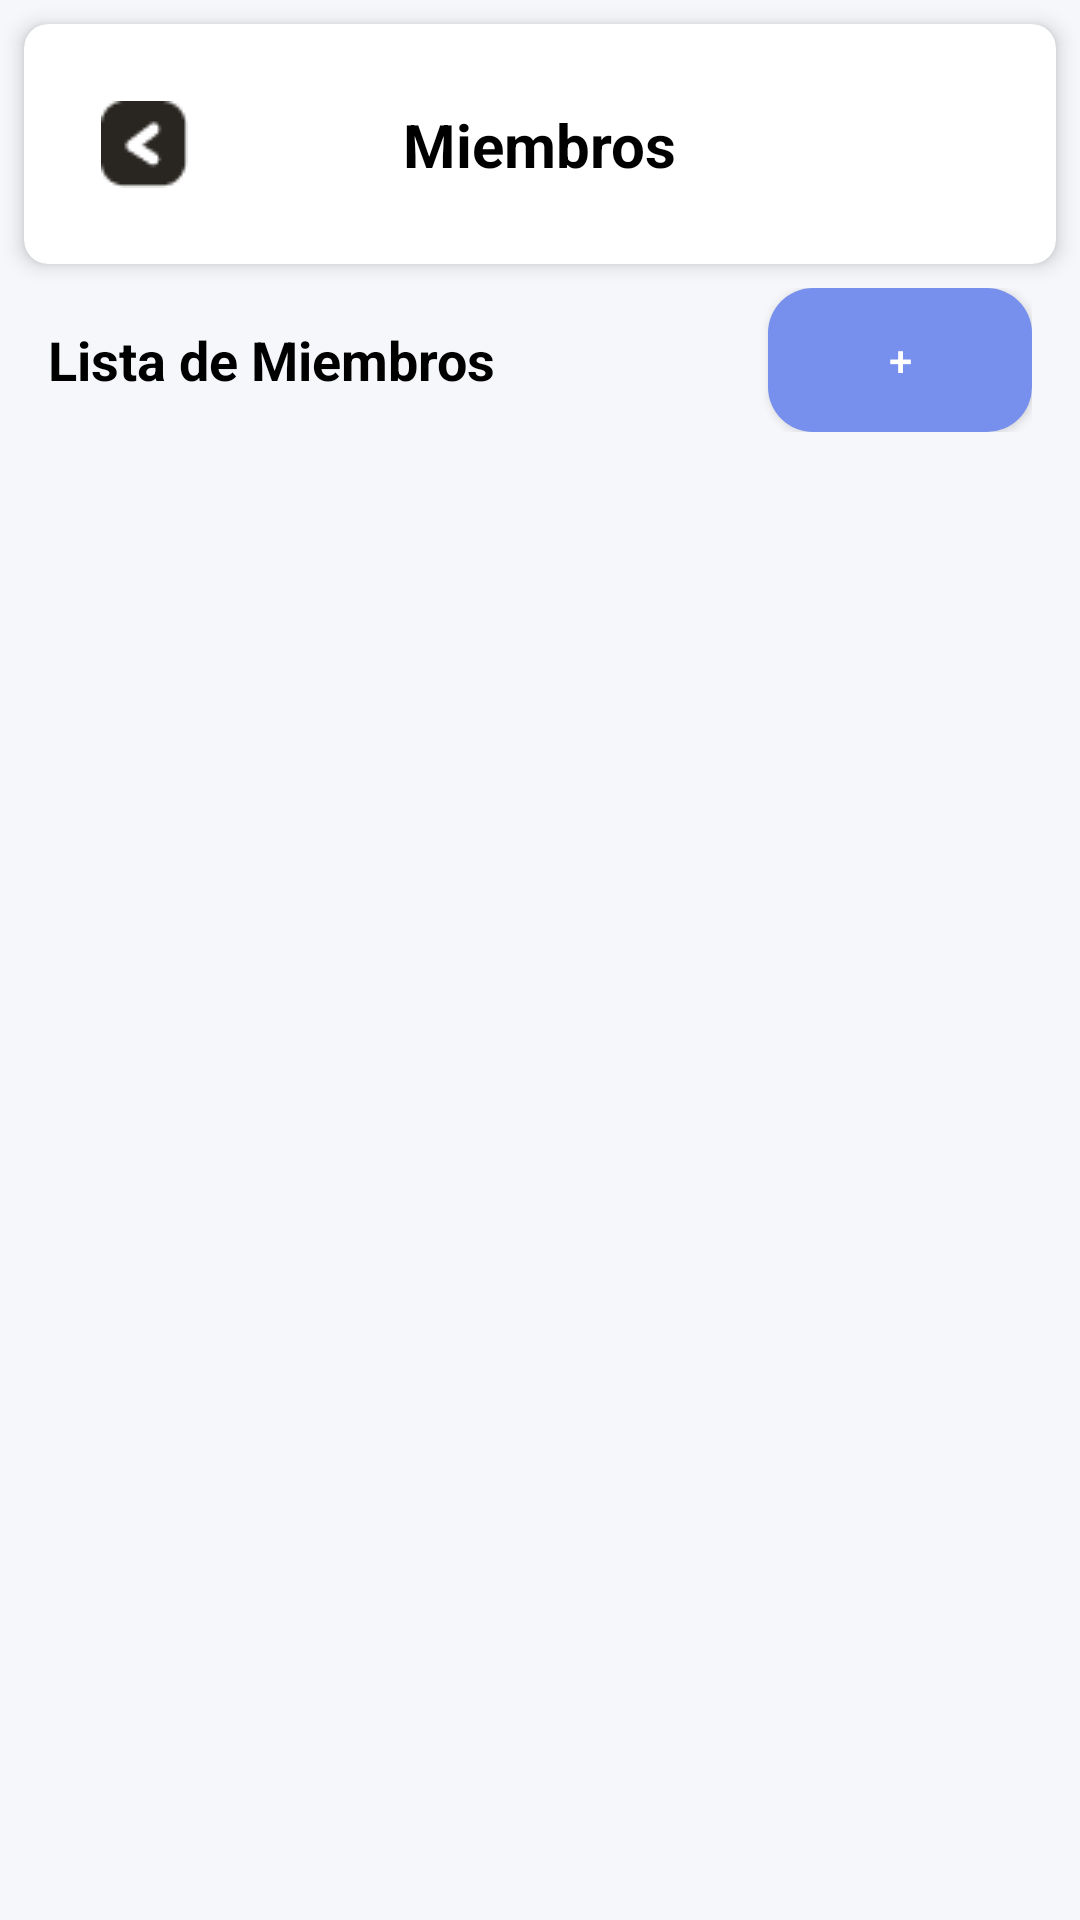

Where icons sit on this 1080 × 1920 app screen, as (x1, y1, x2, y2):
Volver al Home: (101, 101, 188, 188)
